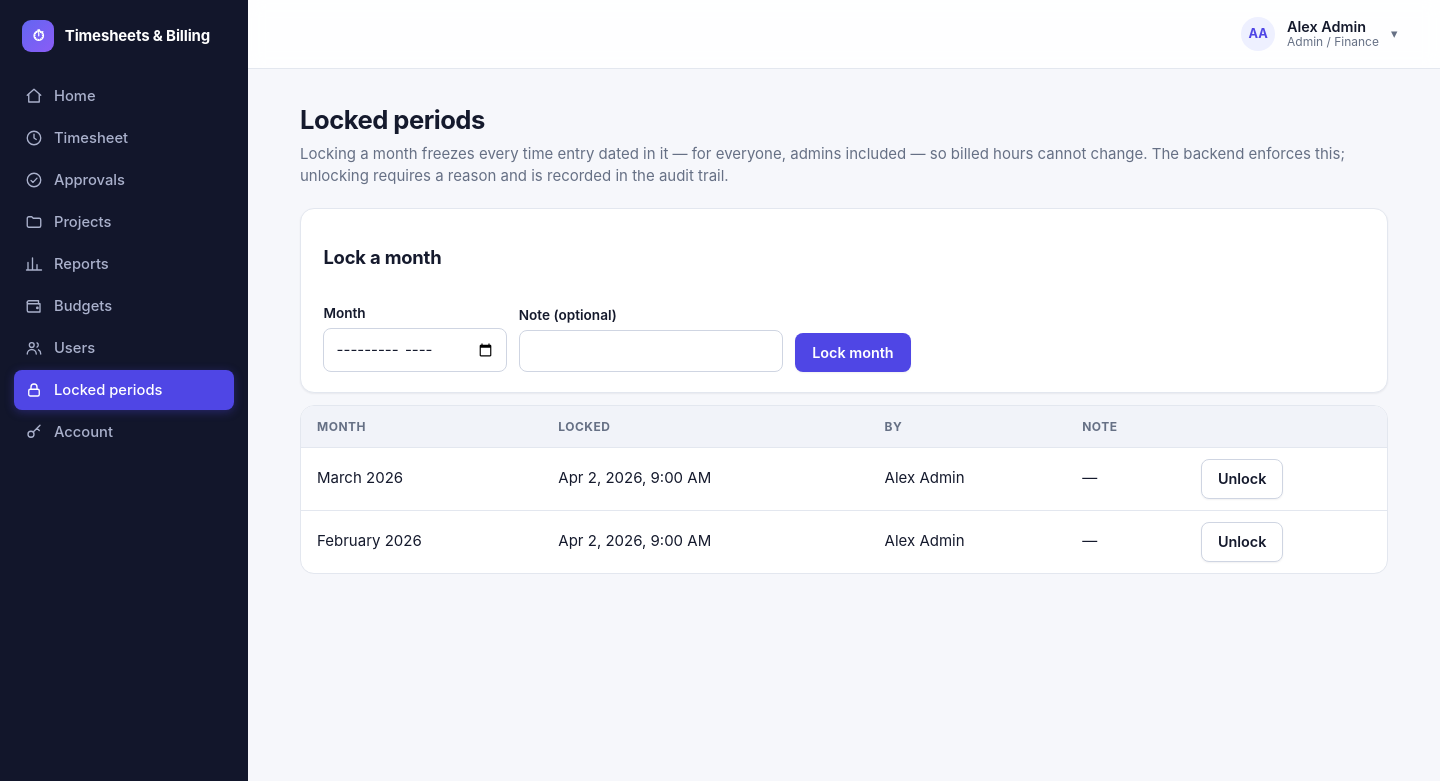
Test: unlocking a month › unlocks with the reason and removes the month from the list
Check: the heading "Locked periods" is shown, box [300,104,485,135]
Click the button with aria-label "Unlock March 2026" at (1242,479), box [1201,459,1283,498]
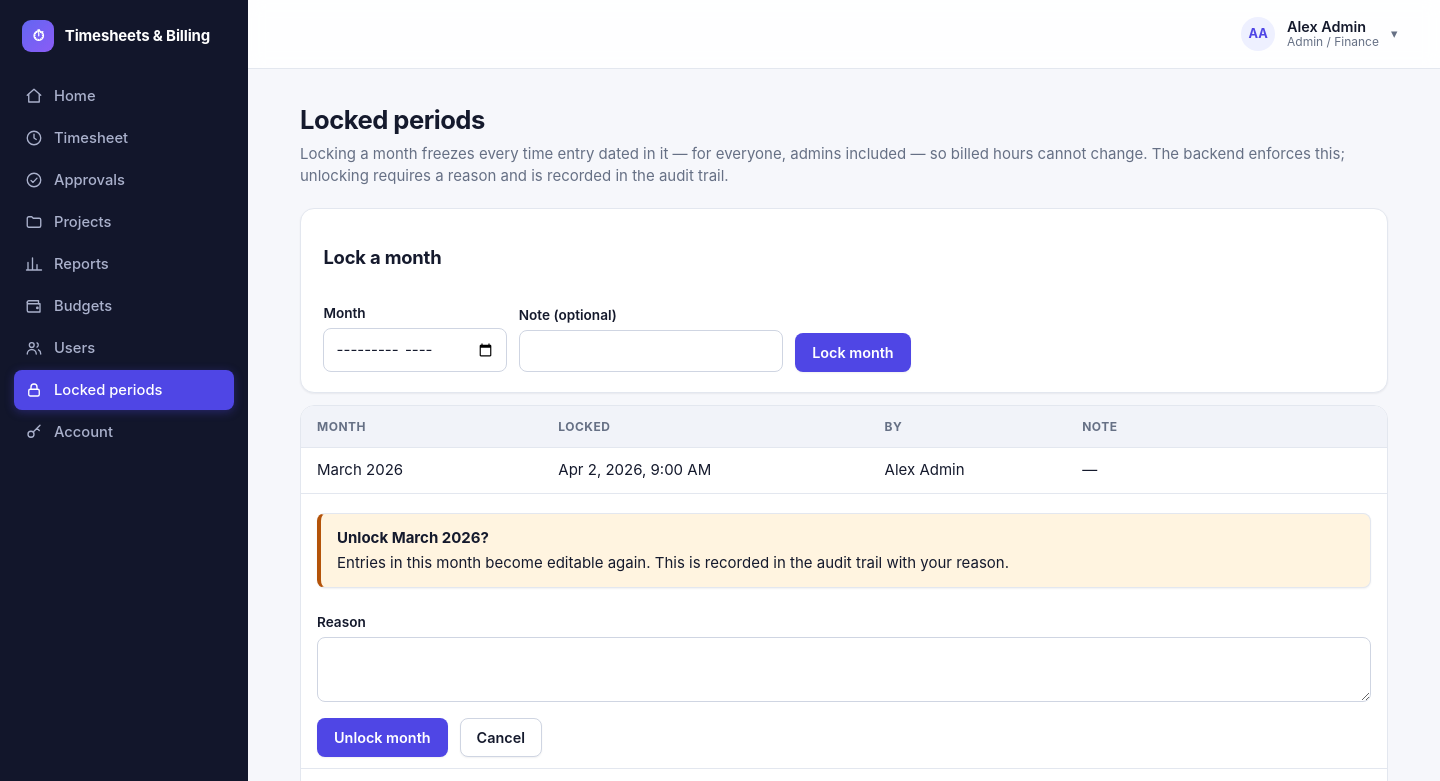
Type "  Late invoice correction  " into the text box labelled "Reason" at (844,669), box [317,637,1371,702]
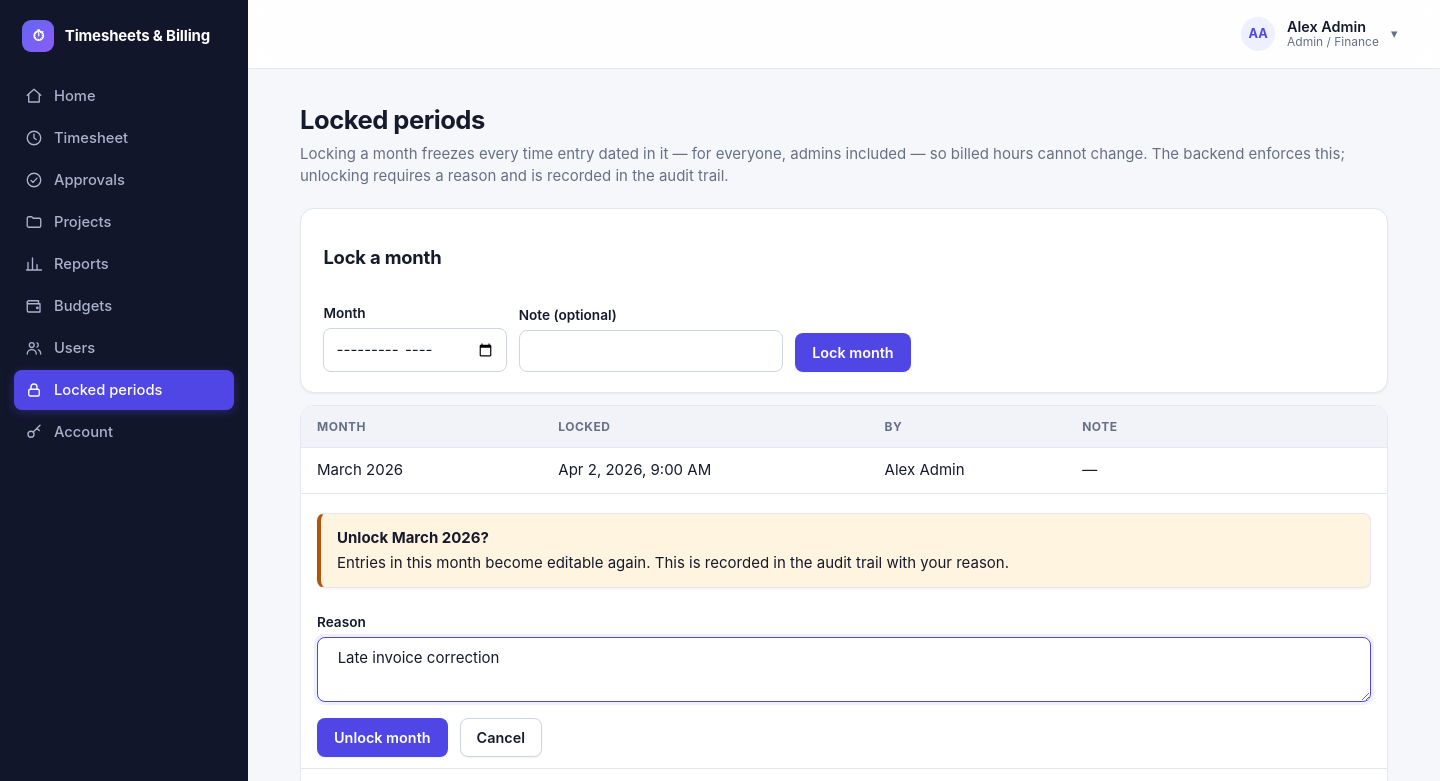
Click the button "Unlock month" at (382,737), box [317,718,448,757]
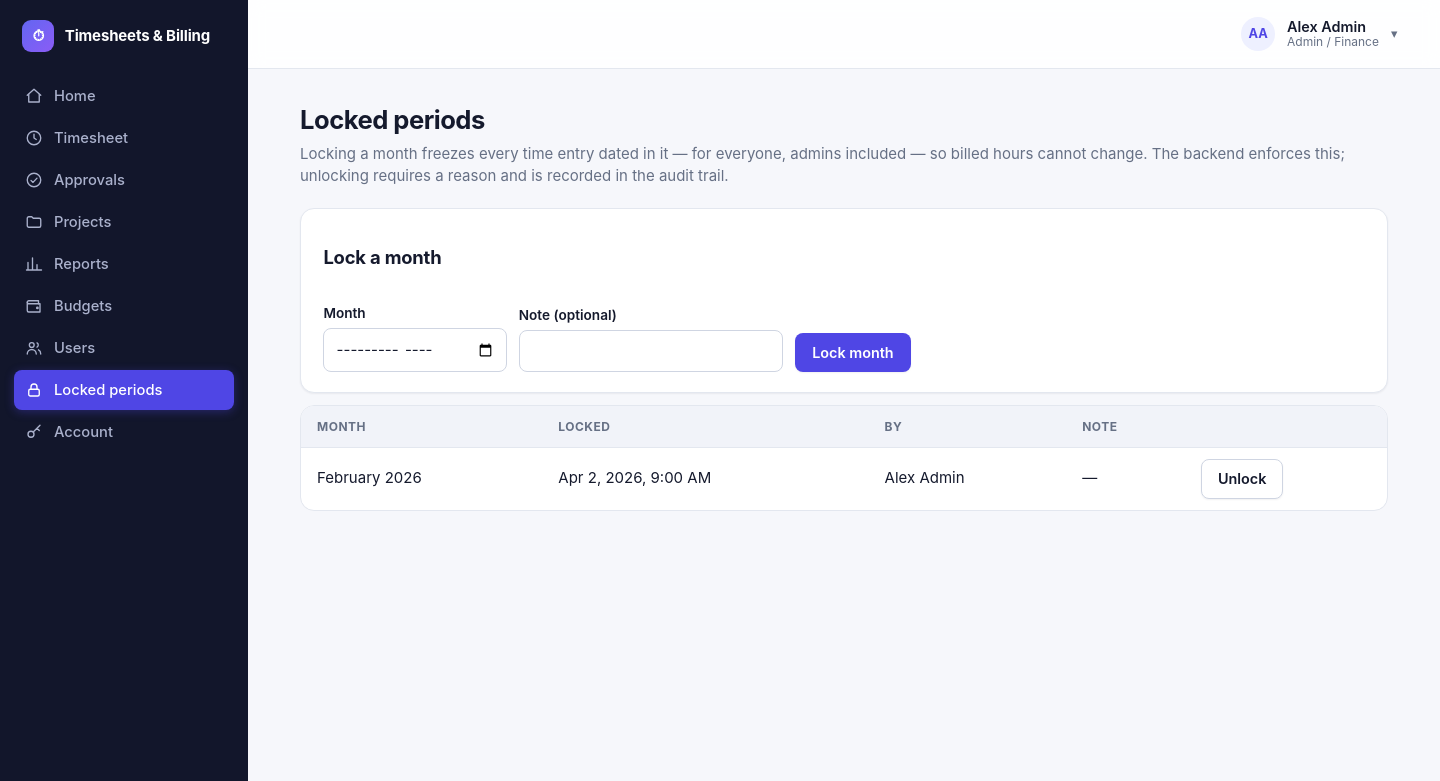
Check: the text "February 2026" is shown, box [301,448,542,510]
Check: the text "March 2026" is gone
